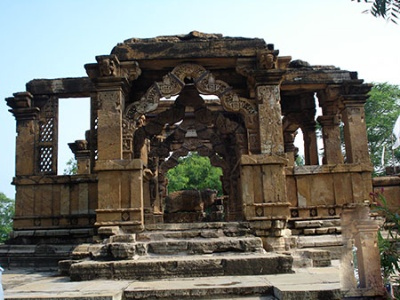torana: (91, 30, 285, 212)
